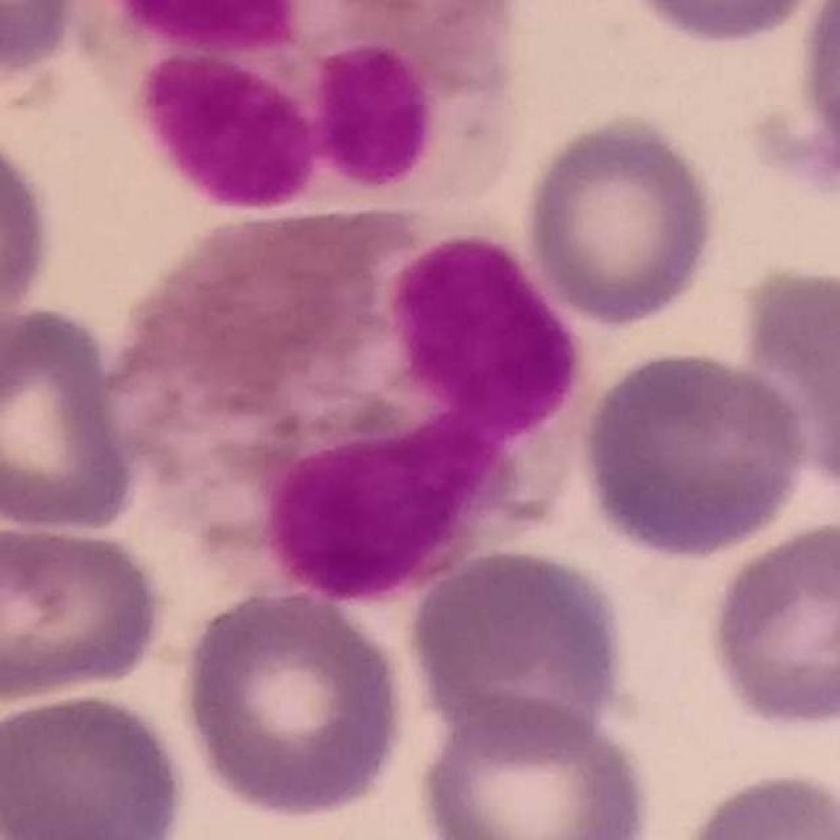eosinophil: (106, 211, 598, 627), (77, 1, 547, 223)
